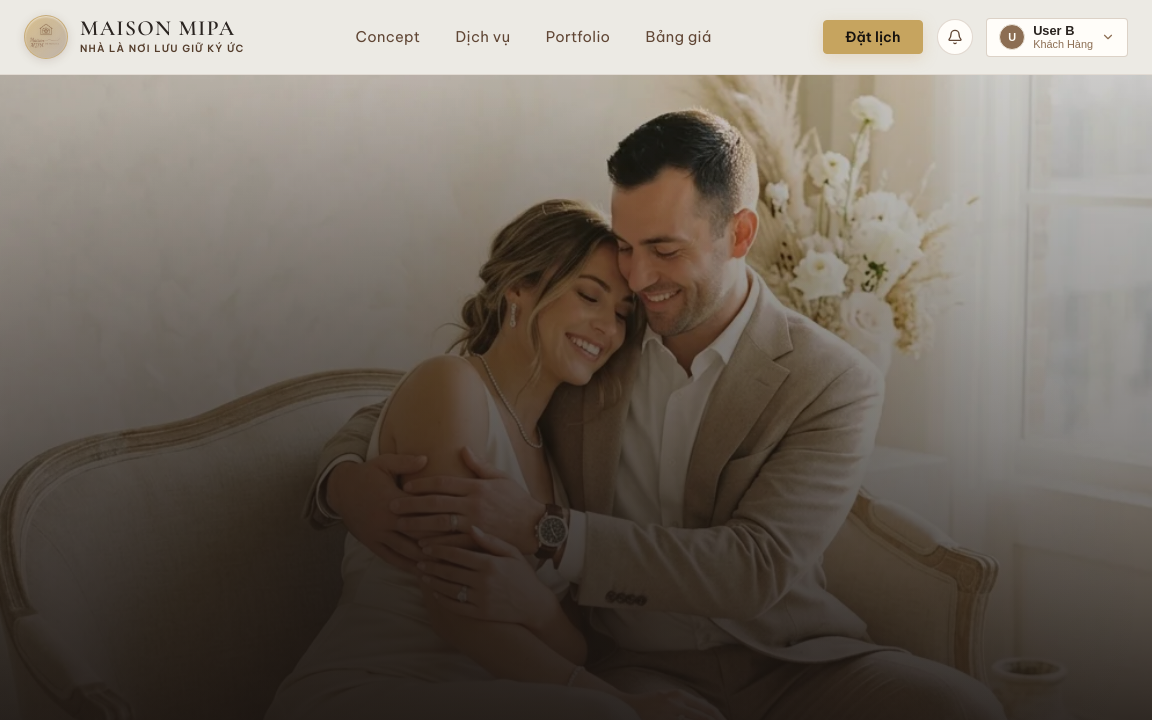
Test: Visual Commerce Hardening & Data Integrity Pass › 9. User A notification cache: isolated and not visible to User B
# Open notifications
Click the button titled "Thông báo hệ thống" at (954, 37), box [936,19,972,55]
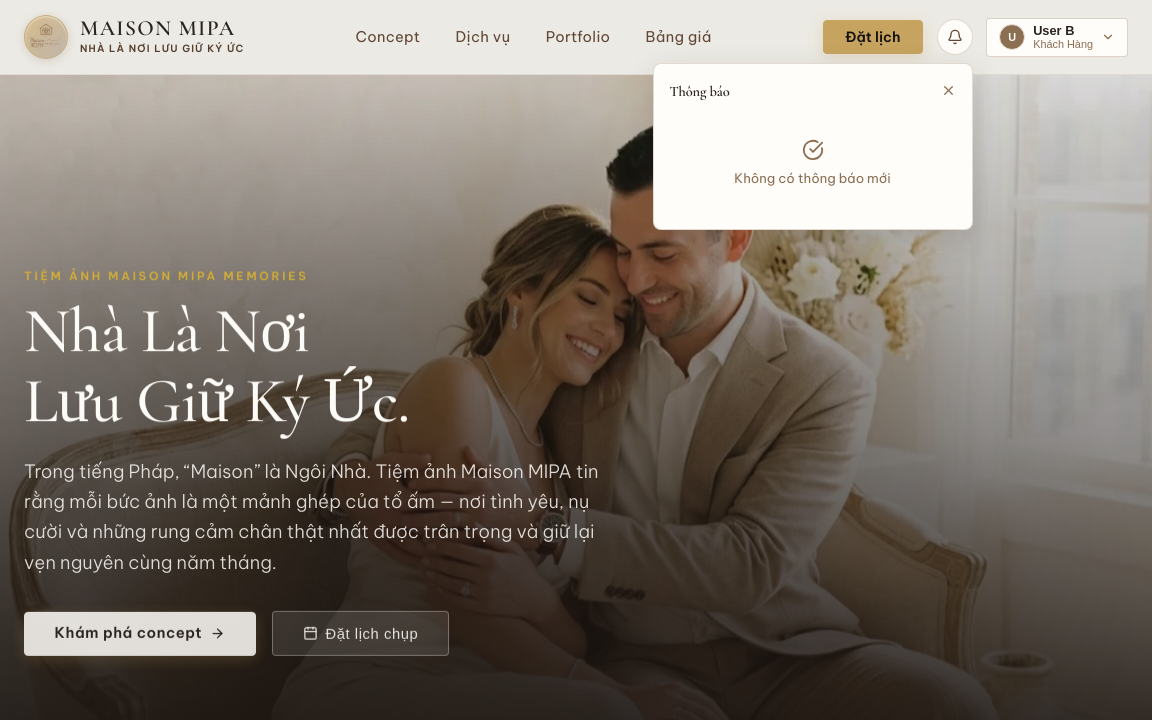
Check: the text "Không có thông báo mới" is shown, box [734,170,891,186]
